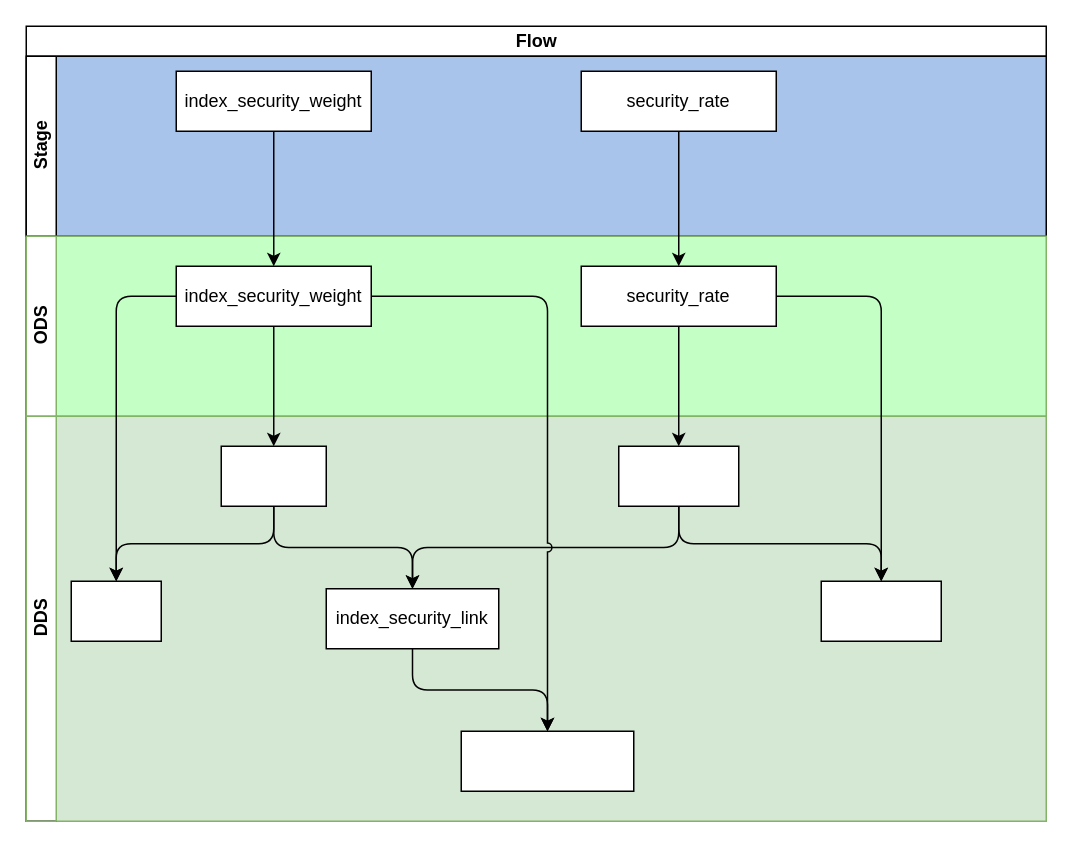
Some shapes in this 1073 by 848 pixel diagram are drawn without their labels. The centre of each missing label's shape, as x and y in pixels:
index_hub: point (273, 475)
index_sat: point (115, 610)
index_security_sat: point (547, 760)
security_hub: point (678, 475)
security_sat: point (880, 610)
